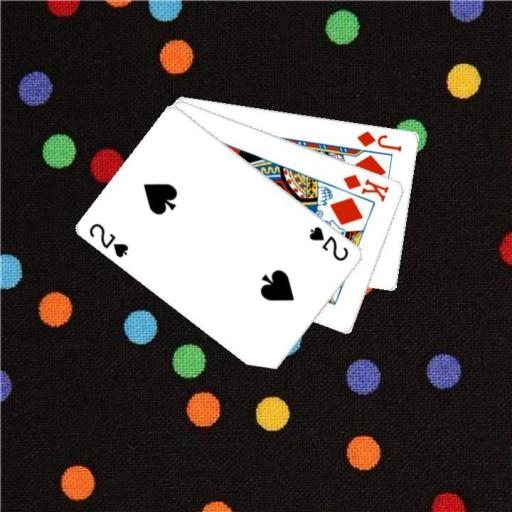2S: (306, 223, 351, 263), (86, 220, 131, 260)
JD: (354, 127, 404, 153)
KD: (340, 171, 391, 203)
